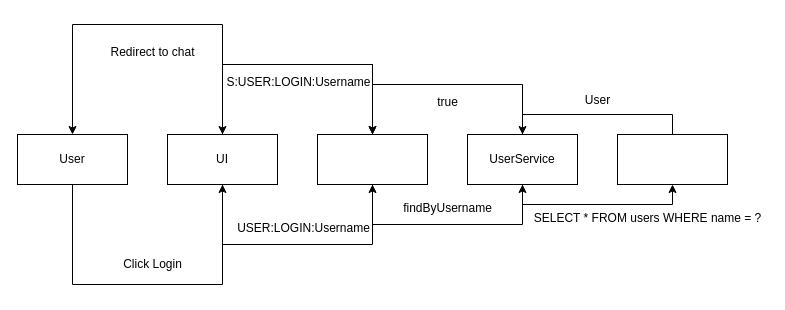
Some shapes in this 785 by 310 pixel diagram are drawn without their labels. Here are the shapes that lost their labels. From the top down, the box of each, then its label:
(316, 134, 428, 184): Interceptor
(616, 134, 728, 184): Database
